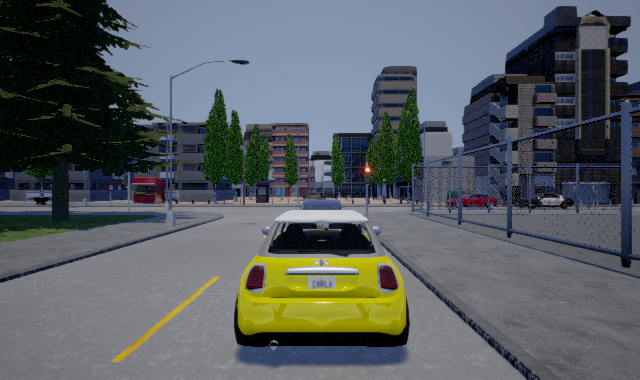traffic_light: (364, 167, 371, 184)
traffic_sign: (107, 183, 113, 190)
vehicle: (234, 210, 410, 350), (511, 192, 574, 209), (447, 190, 498, 209)
